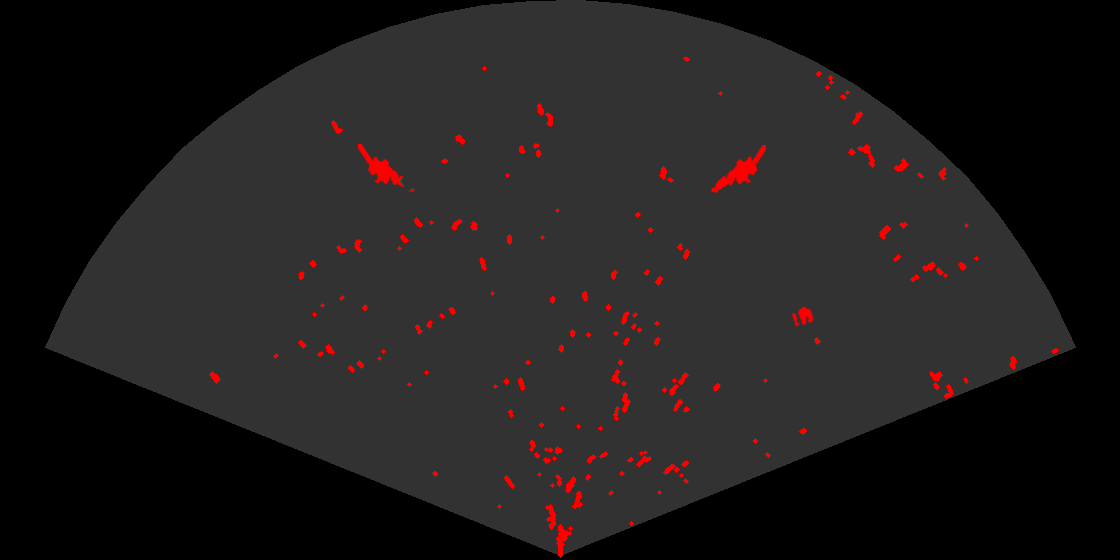ball: (790, 305, 815, 328)
frogman: (358, 144, 416, 194), (709, 145, 766, 195)
